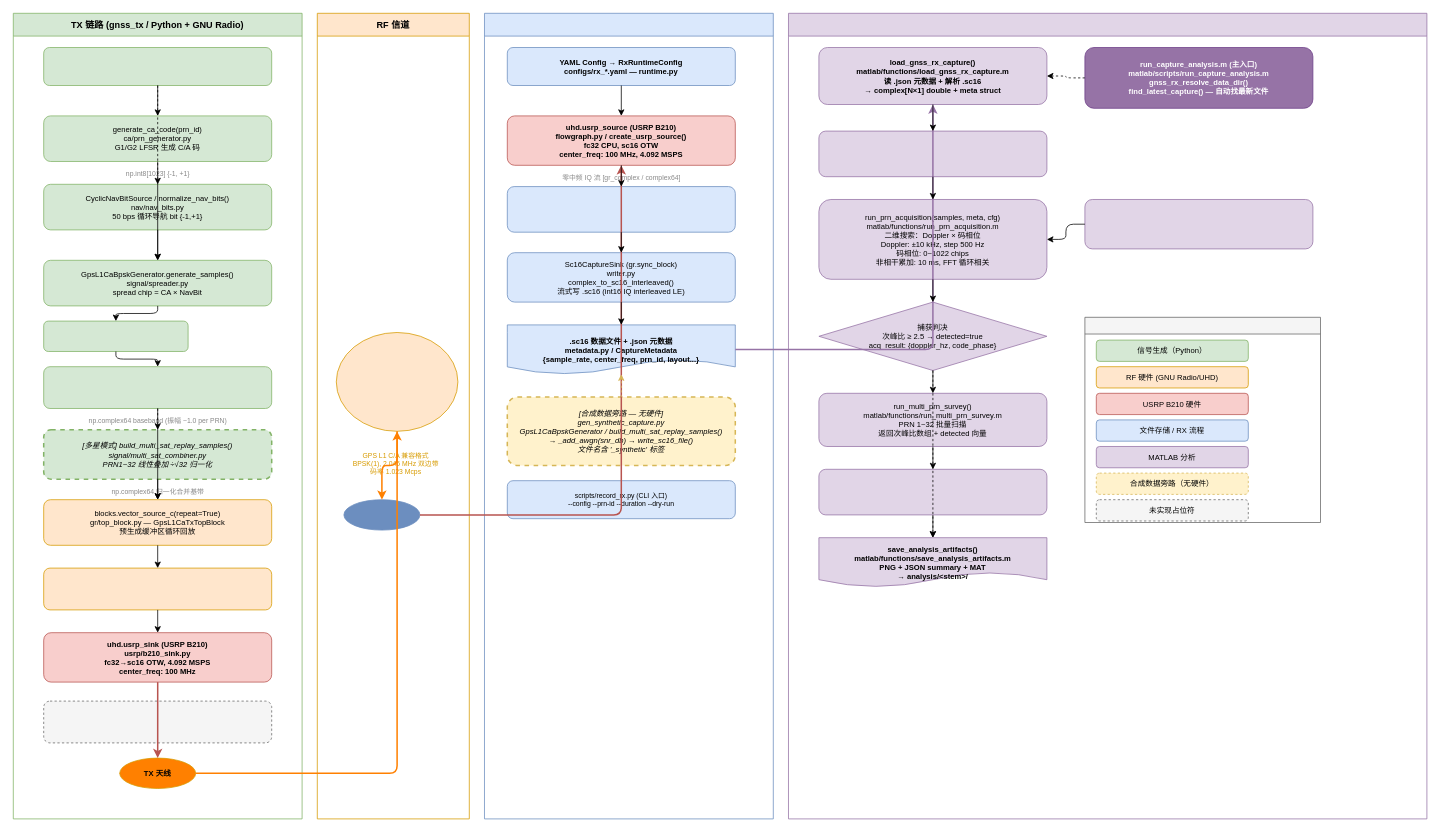
Image size: 1440x832. Some labels were removed from this diagram. Here are the shapes that lost their labels. From the top down, the box of each, then its label:
(43, 47, 272, 86): YAML Config + PRN ID (1~32) configs/tx_b210*.yaml
(818, 130, 1047, 177): plot_capture_overview() 时域波形 | 频谱 (65536 pt FFT) | IQ 散点图
(507, 186, 735, 232): blocks.head(capture_samples) flowgraph.py / ZeroIfCaptureTopBlock 截断至精确采样数后停止流图
(1084, 199, 1313, 249): 本地 C/A 码 replica 生成 generate_ca_code() [MATLAB 内嵌] 重采样 → FFT 域循环相关
(43, 320, 188, 352): repeat_chips(spc=4) — ca/resampler.py 零阶保持上采样
(43, 366, 272, 408): chips_to_complex_baseband() signal/iq_builder.py BPSK → complex64, Q=0
(336, 332, 458, 431): 自由空间传播 RF 信号 @ 100 MHz (实验室近场) 路径损耗 ~30 dB
(484, 13, 773, 819): RX 链路 (GNSS_RX / Python + GNU Radio)
(788, 13, 1427, 819): MATLAB 离线分析链
(1084, 317, 1320, 522): 图例
(818, 469, 1047, 515): plot_multi_prn_survey() PRN 次峰比柱状图（哪些星被捕获）
(343, 499, 420, 530): RX 天线
(43, 567, 272, 610): blocks.multiply_const_cc(amplitude=0.25) gr/top_block.py — 幅度缩放 gr_complex 流
(43, 700, 272, 743): [未实现占位符] nav/subframe_builder.py utils/timebase.py / utils/logging.py
